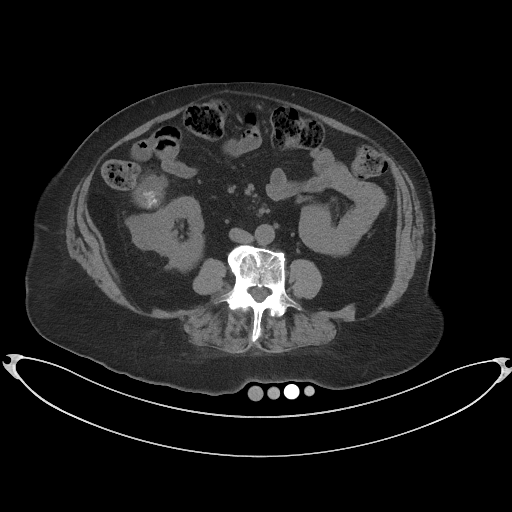Lesion: (122, 211, 170, 252)
